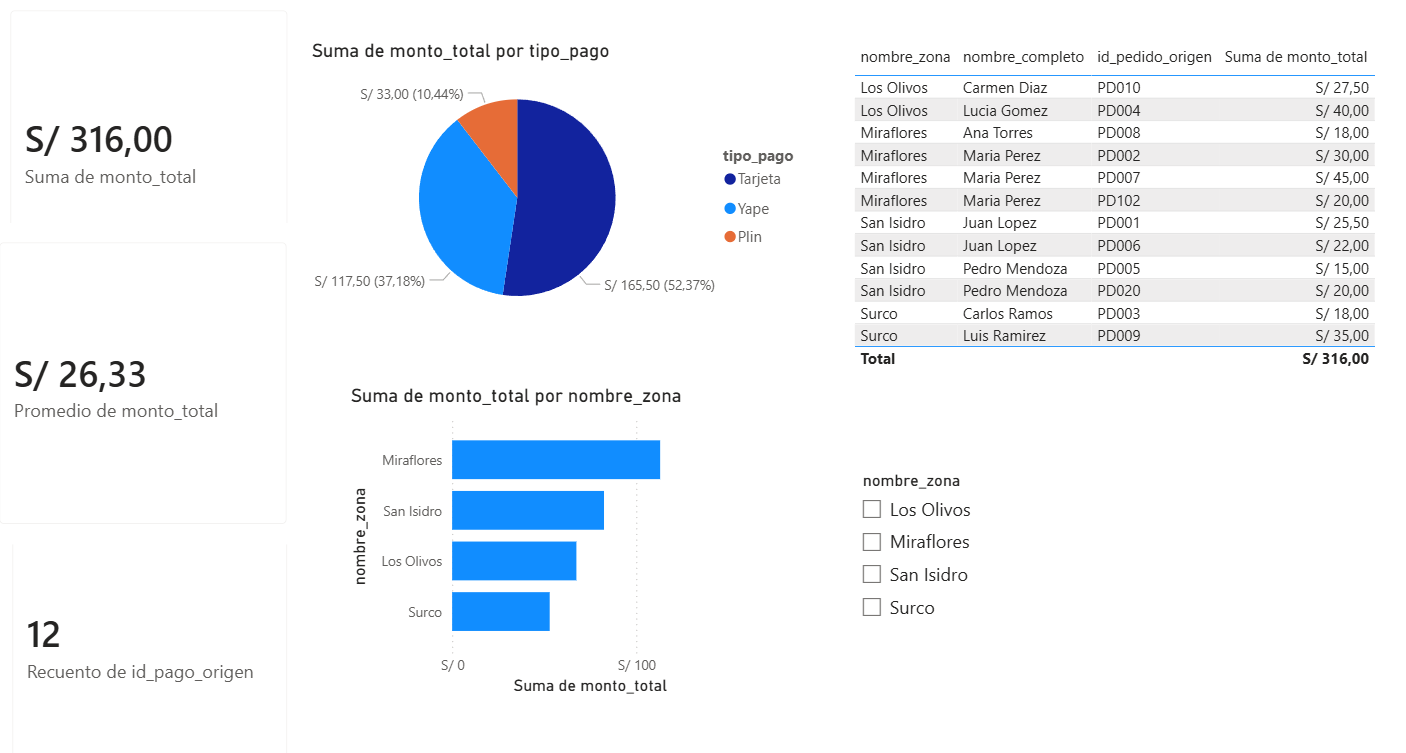

Layout of this report page (visuals, bound fields, positions):
{"tool":"powerbi","page":{"name":"Página 1","canvas":[1280,720],"ordinal":0},"visuals":[{"type":"cardVisual","fields":{"Data":["Sum(Fact_Pedidos.monto_total)"]},"box":[10,0,280,280],"z":0},{"type":"cardVisual","fields":{"Data":["CountNonNull(Fact_Pedidos.id_pago_origen)"]},"box":[11.3,438.7,278.2,280.4],"z":1},{"type":"cardVisual","fields":{"Data":["Avg(Fact_Pedidos.monto_total)"]},"box":[0,205.8,289.5,284.9],"z":2},{"type":"pieChart","fields":{"Category":["Fact_Pedidos.tipo_pago"],"Y":["Sum(Fact_Pedidos.monto_total)"]},"box":[289.1,42.6,456.7,262.5],"z":3},{"type":"barChart","fields":{"Category":["Dim_Zona.nombre_zona"],"Y":["Sum(Fact_Pedidos.monto_total)"]},"box":[323.4,348.3,361.8,280.4],"z":4},{"type":"tableEx","fields":{"Values":["Dim_Zona.nombre_zona","Dim_Cliente.nombre_completo","Fact_Pedidos.id_pedido_origen","Sum(Fact_Pedidos.monto_total)"]},"box":[769.7,42.6,480.6,305.9],"z":5},{"type":"slicer","fields":{"Values":["Dim_Zona.nombre_zona"]},"box":[769.7,421.2,361.8,149.9],"z":6}]}

Visuals, with their boxes on the page's 1280x720 design canvas (x1, y1, x2, y2). These are canvas units, not pixel positions in the 1406x753 screenshot, which may show the page scaled, cropped or inside an application window:
cardVisual - Sum(Fact_Pedidos.monto_total): 10, 0, 290, 280
cardVisual - CountNonNull(Fact_Pedidos.id_pago_origen): 11, 439, 290, 719
cardVisual - Avg(Fact_Pedidos.monto_total): 0, 206, 290, 491
pieChart - Fact_Pedidos.tipo_pago x Sum(Fact_Pedidos.monto_total): 289, 43, 746, 305
barChart - Dim_Zona.nombre_zona x Sum(Fact_Pedidos.monto_total): 323, 348, 685, 629
tableEx - Dim_Zona.nombre_zona x Dim_Cliente.nombre_completo: 770, 43, 1250, 348
slicer - Dim_Zona.nombre_zona: 770, 421, 1132, 571
